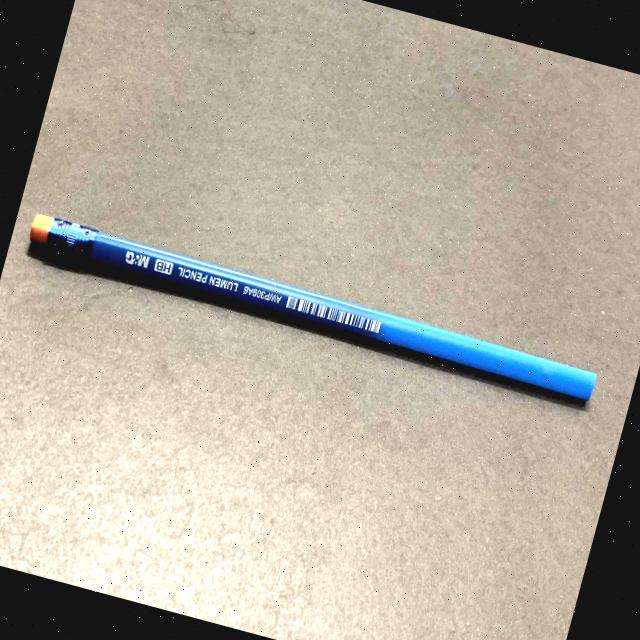Pencil: (6, 153, 628, 459)
